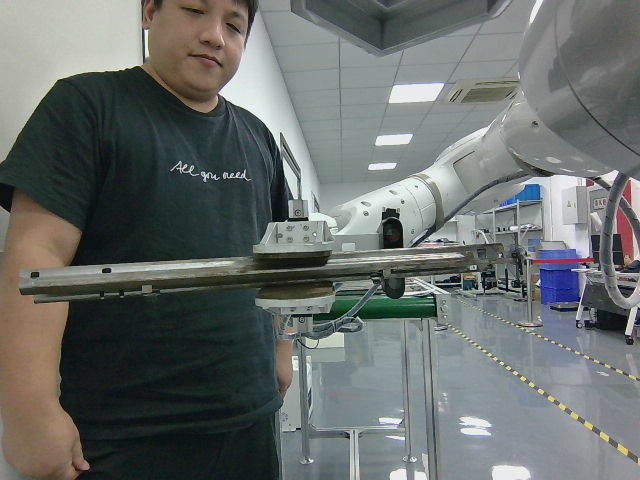down: (19, 240, 506, 304)
